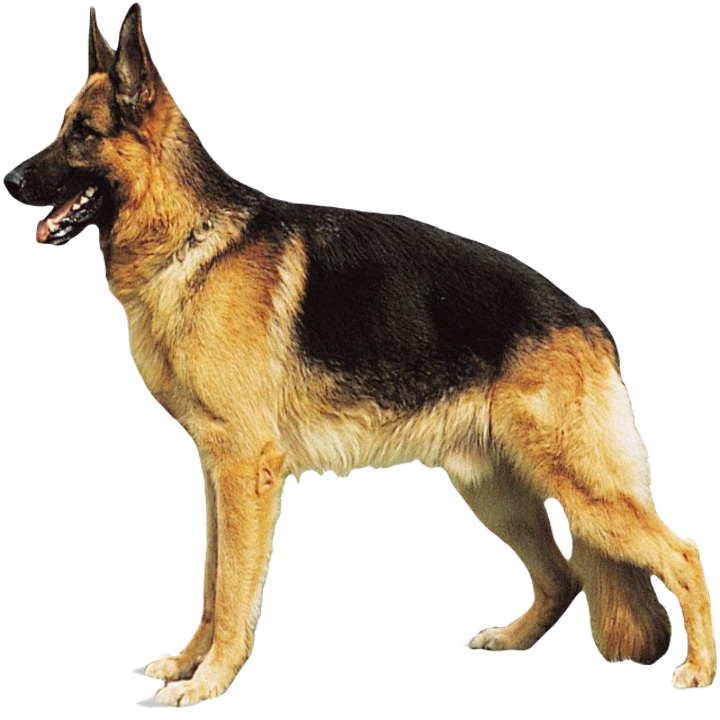Dog: (2, 3, 719, 707)
